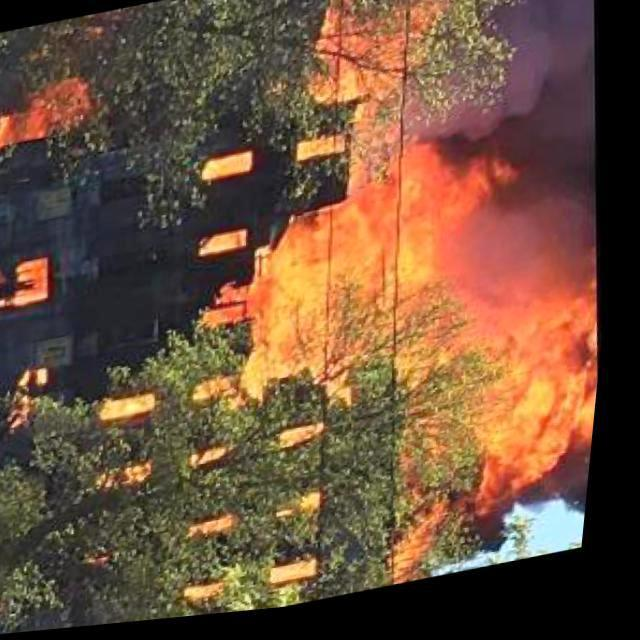fire: (79, 0, 640, 630)
